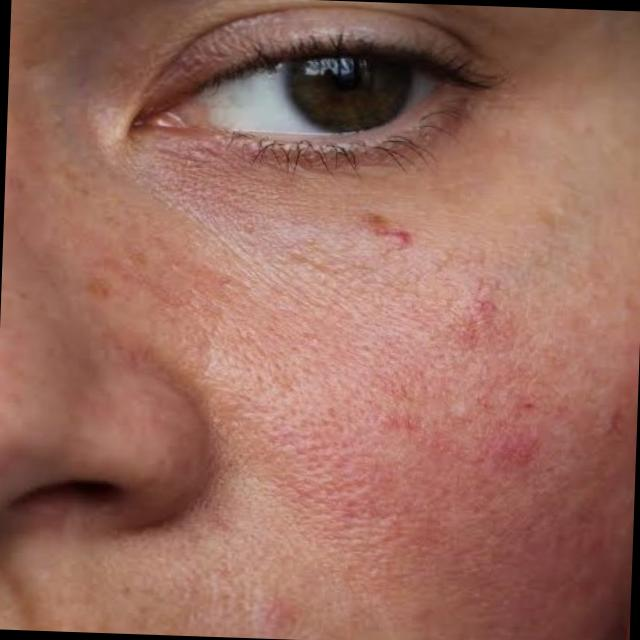redness: (251, 282, 612, 597), (355, 203, 426, 253)
